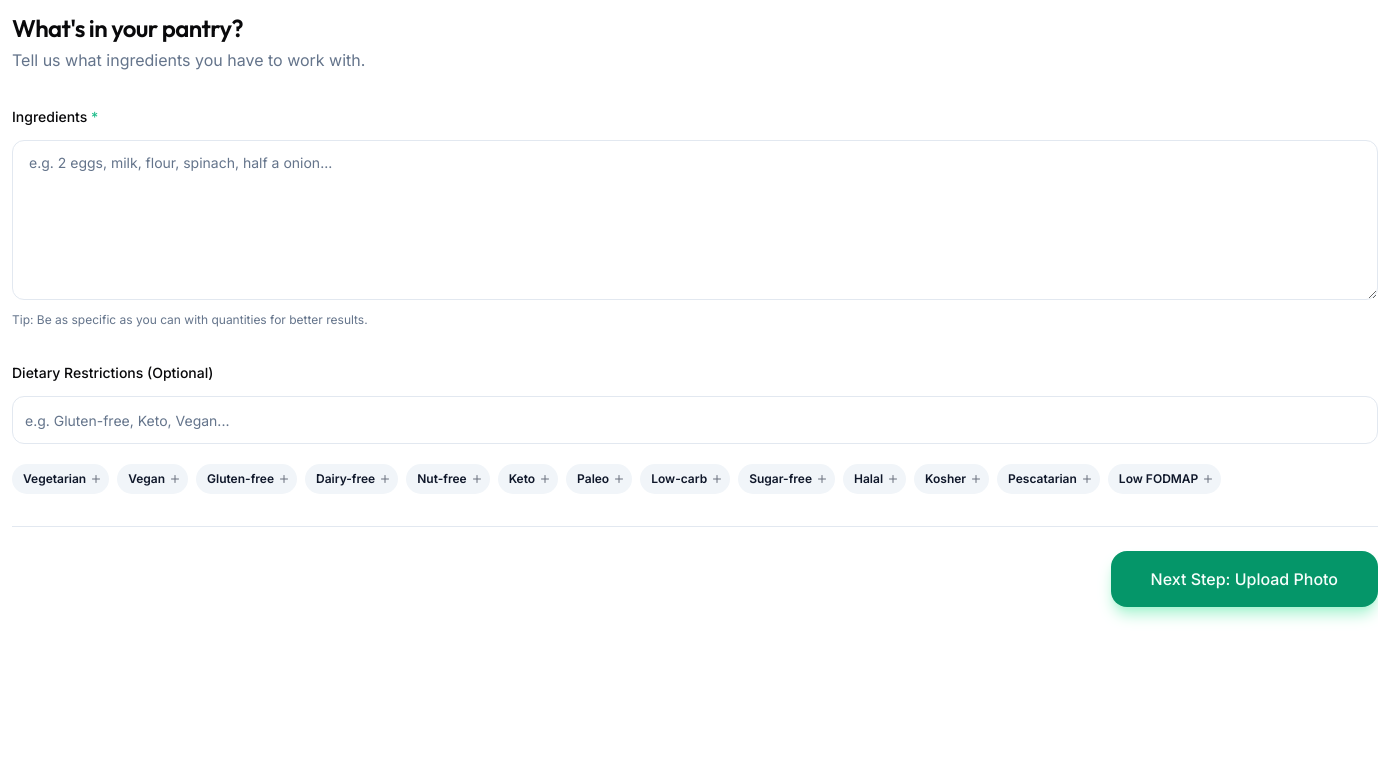
Test case: IngredientsPage Validation › adds restrictions via badges
Click the text "Gluten-free": (246, 479) [196,464,297,494]
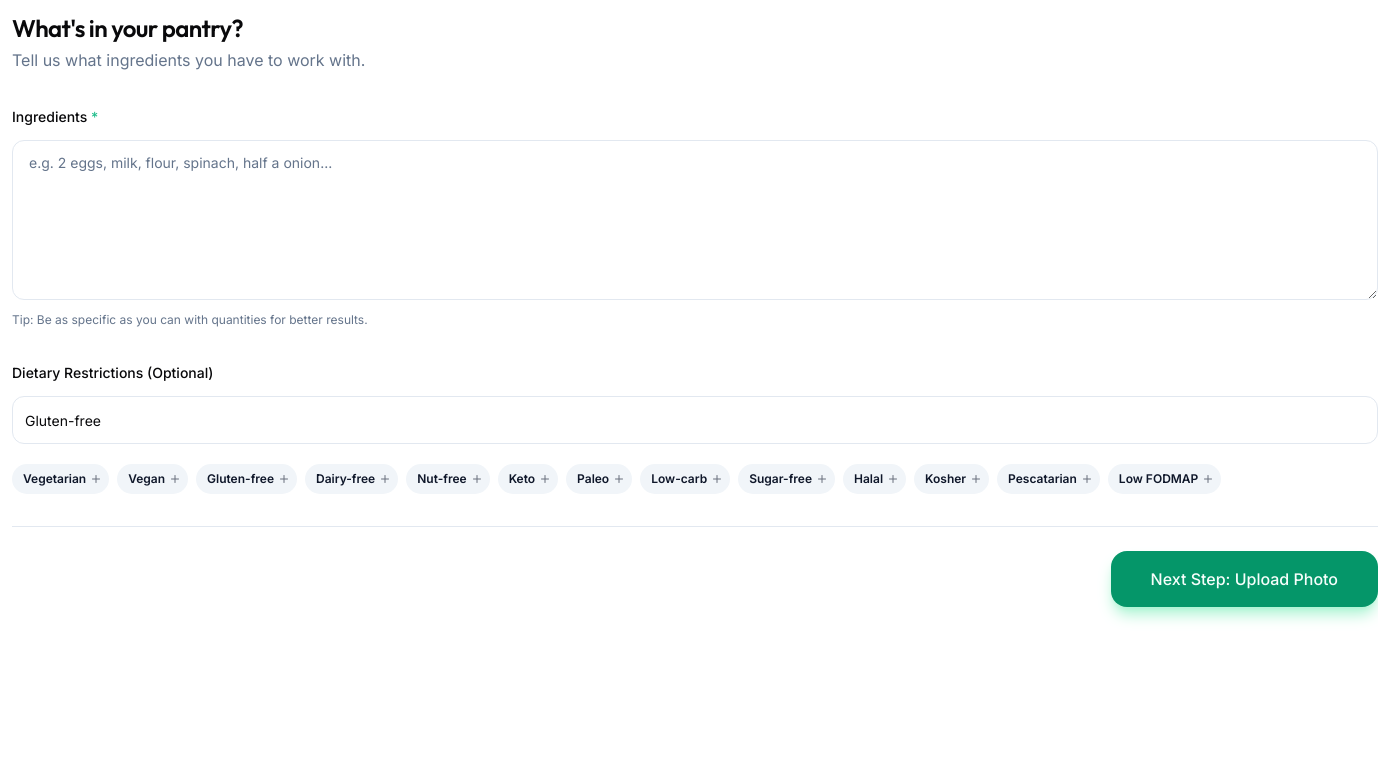
Now the field with placeholder "e.g. Gluten-free, Keto, Vegan..." holds "Gluten-free", box [12,396,1378,444]
# Add another one
Click the text "Vegan": (153, 479) [117,464,188,494]
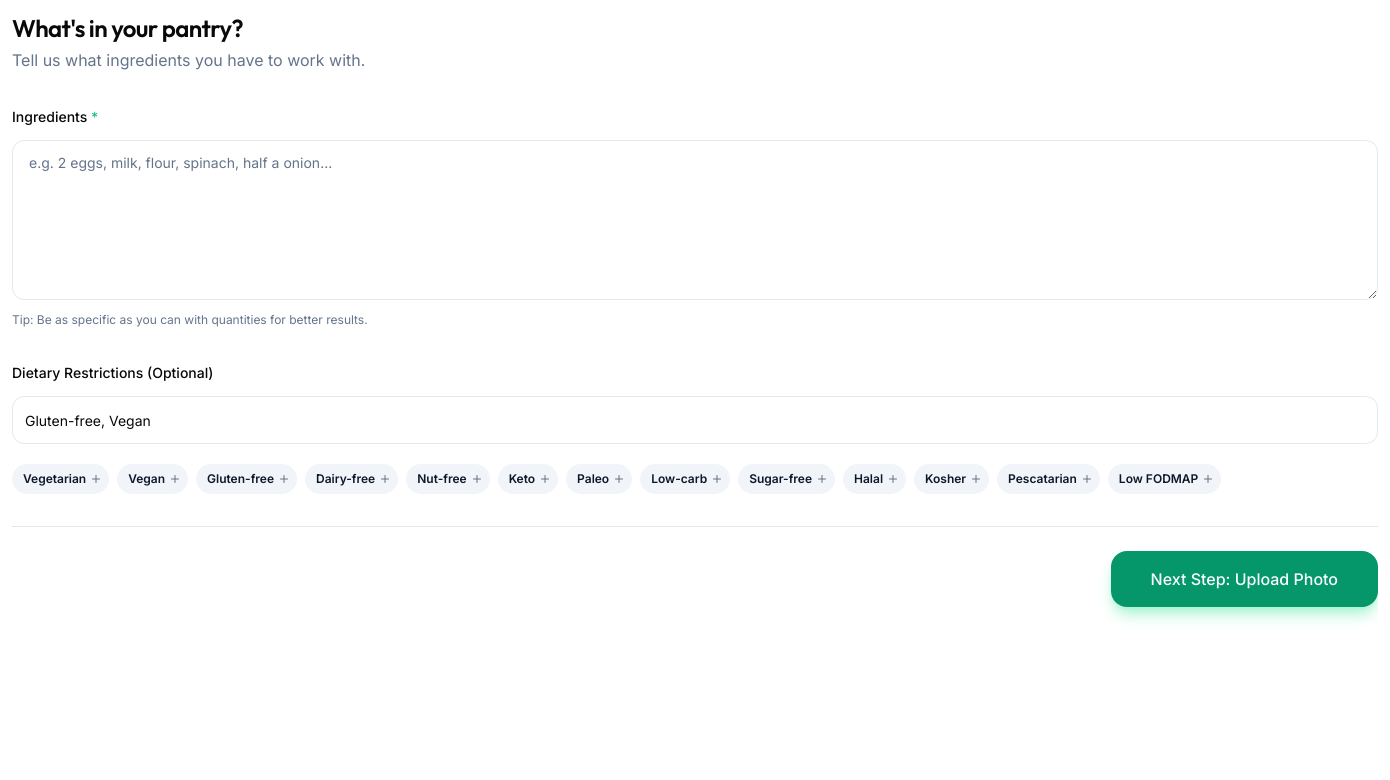
Now the field with placeholder "e.g. Gluten-free, Keto, Vegan..." holds "Gluten-free, Vegan", box [12,396,1378,444]
